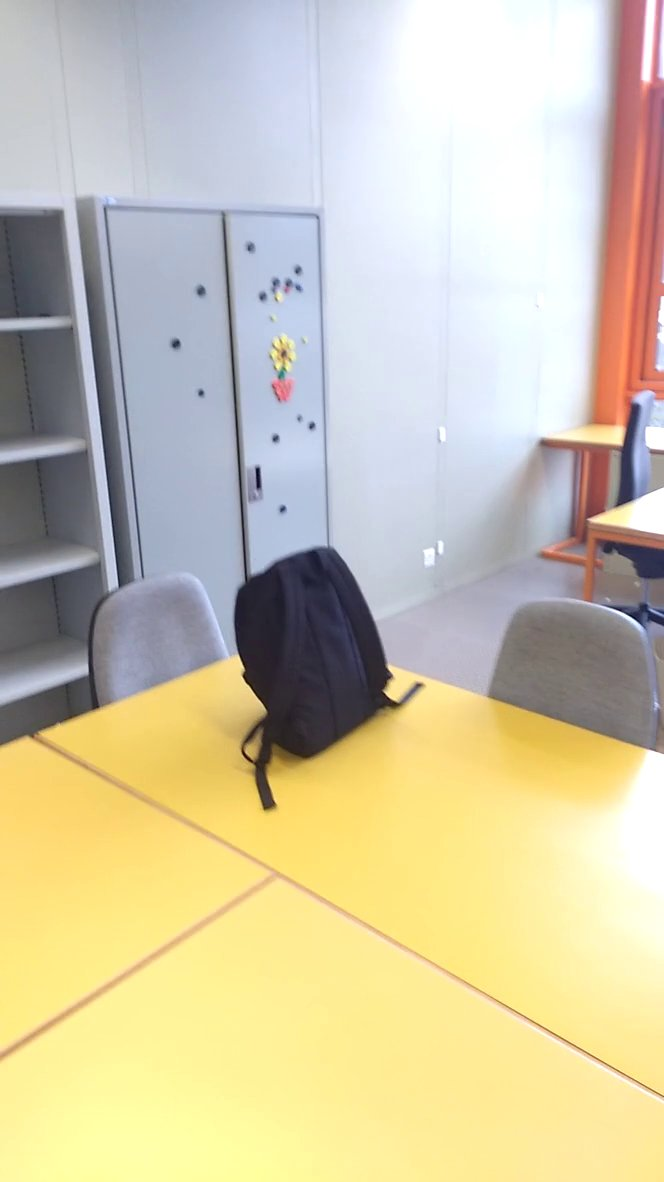bag: (229, 536, 430, 812)
chair: (468, 585, 664, 795), (75, 558, 235, 726), (607, 380, 664, 618)
